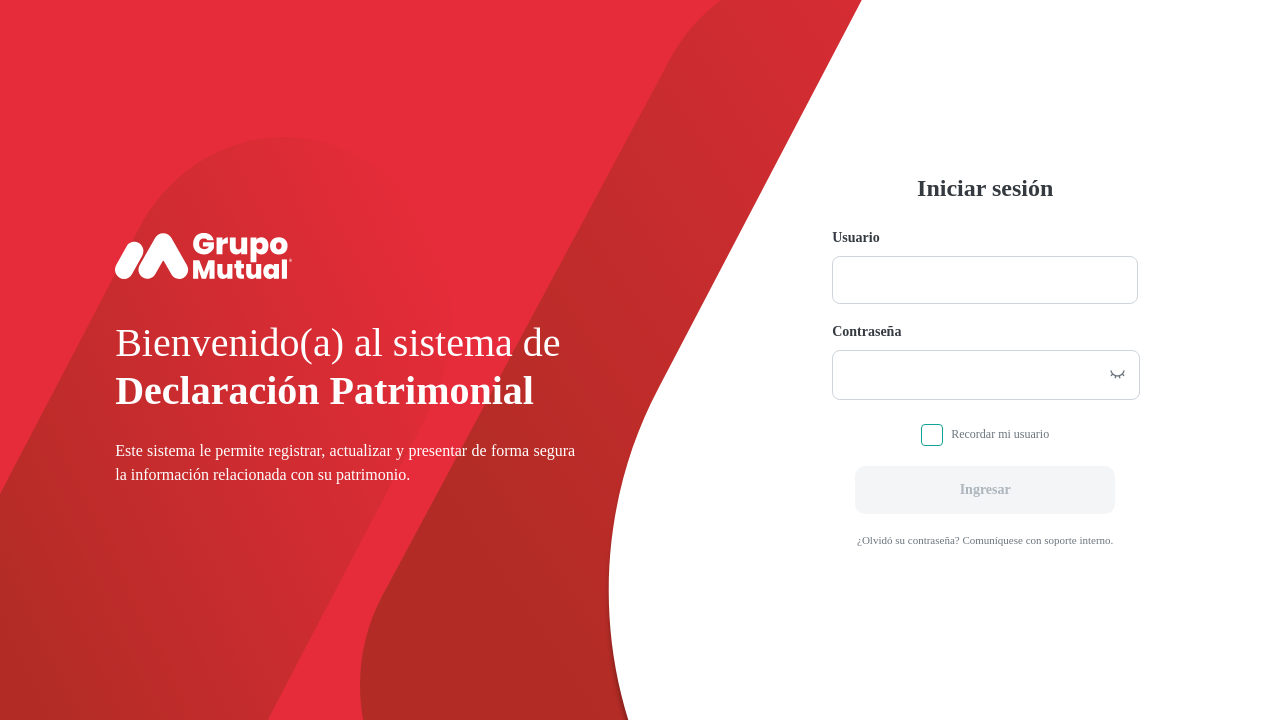
Login › rejects short usernames and clears the error at five characters
Type "abcd" into the field labelled "Usuario" at (985, 280), box [832,256,1138,304]
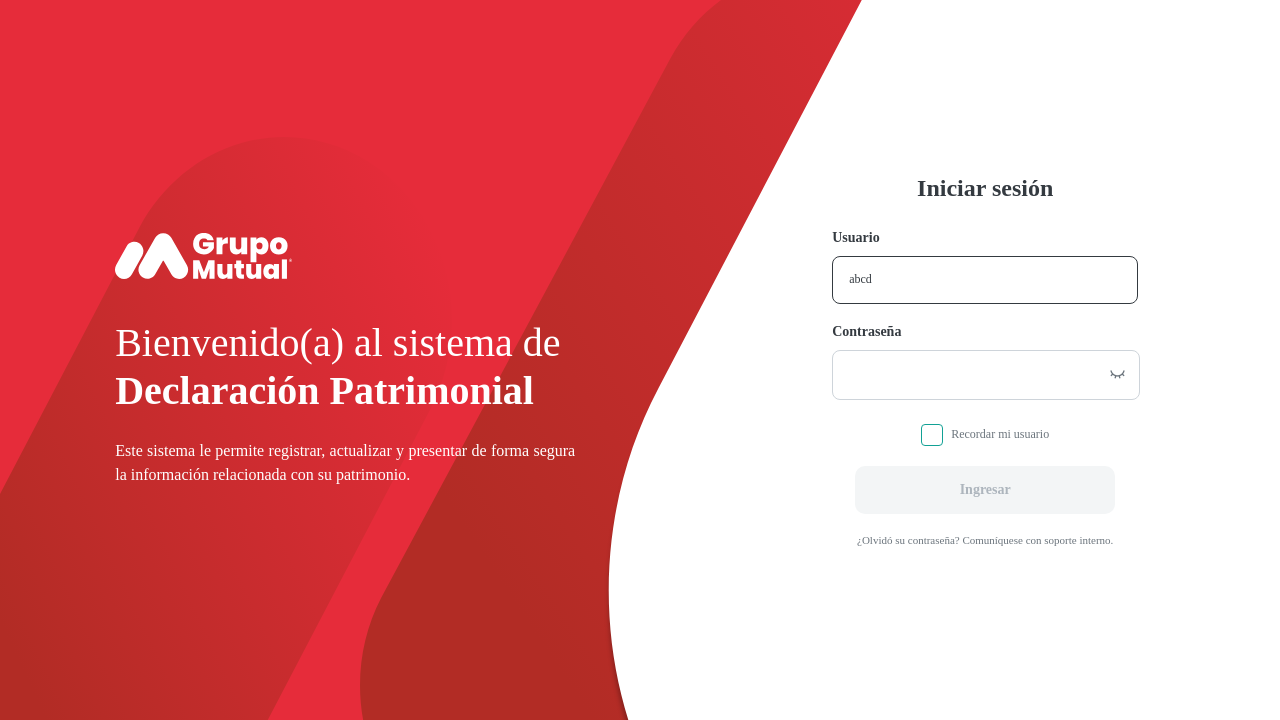
Type "x" into the password field labelled "Contraseña" at (965, 374), box [833,350,1096,398]
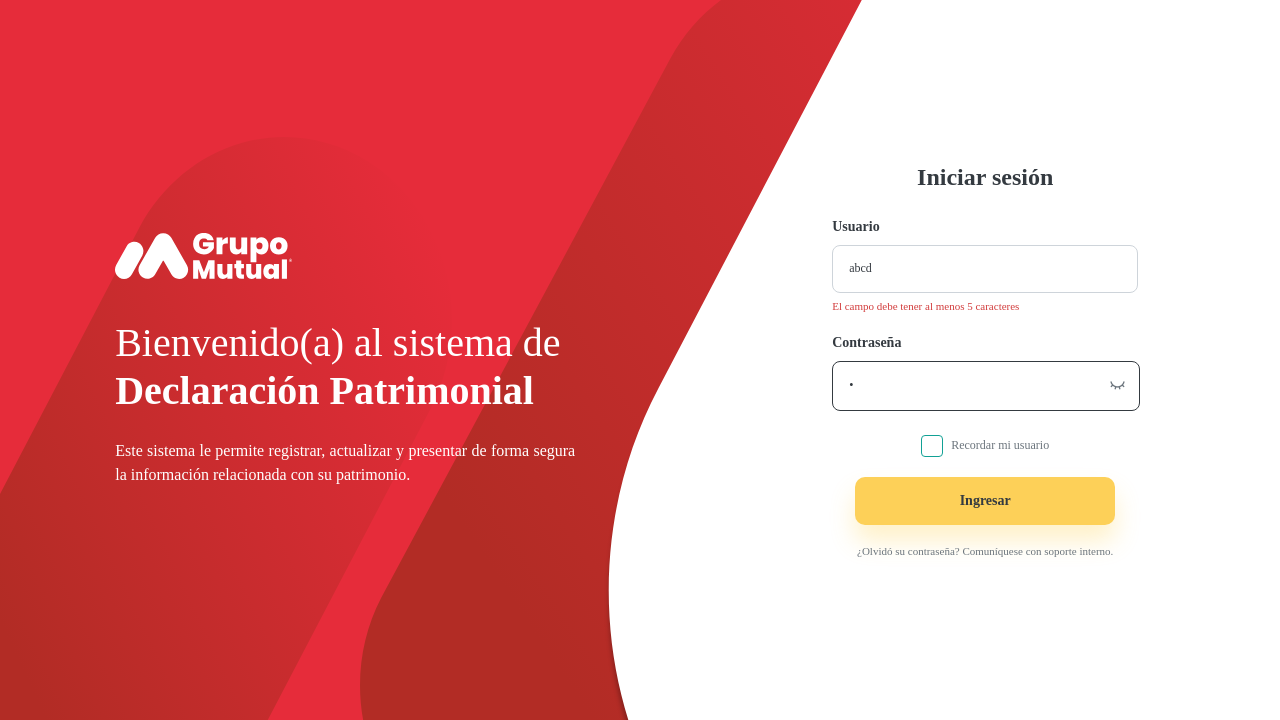
Click the button "Ingresar" at (985, 500), box [855,476,1115,524]
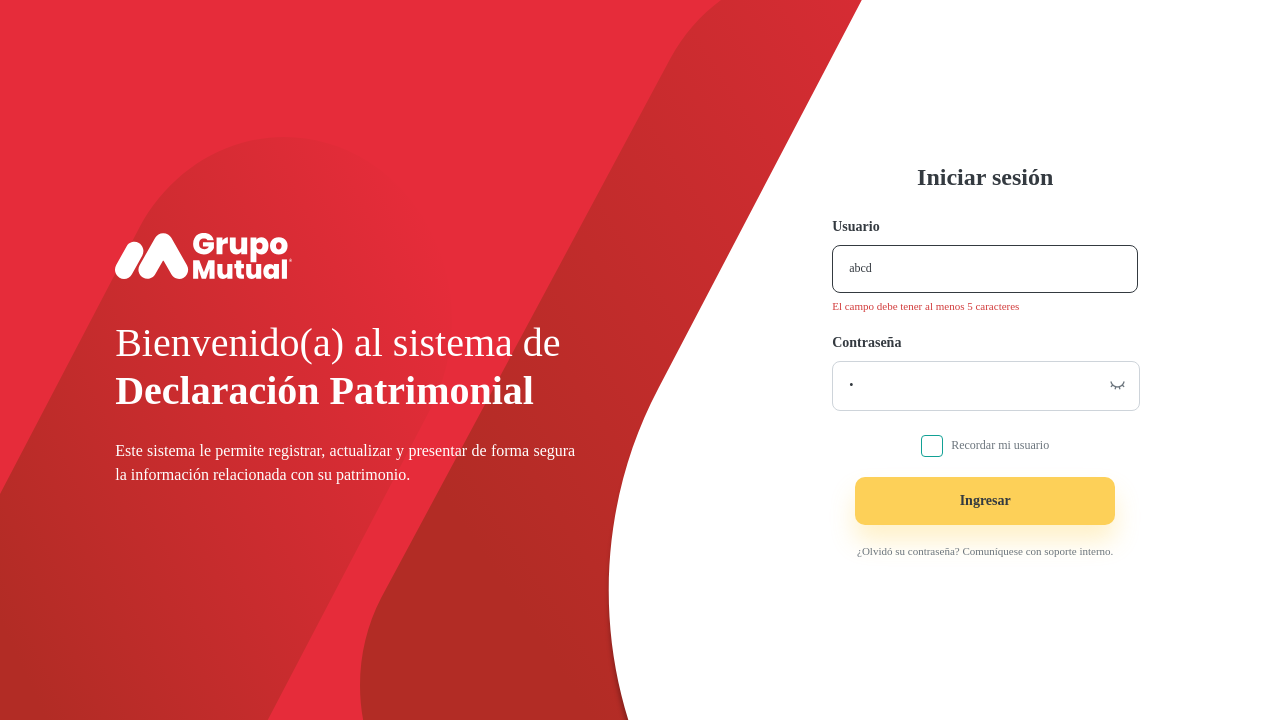
Check: the text "El campo debe tener al menos 5 caracteres" is shown, box [832,296,1019,314]
Type "e" into the field labelled "Usuario" at (985, 268), box [832,244,1138,292]
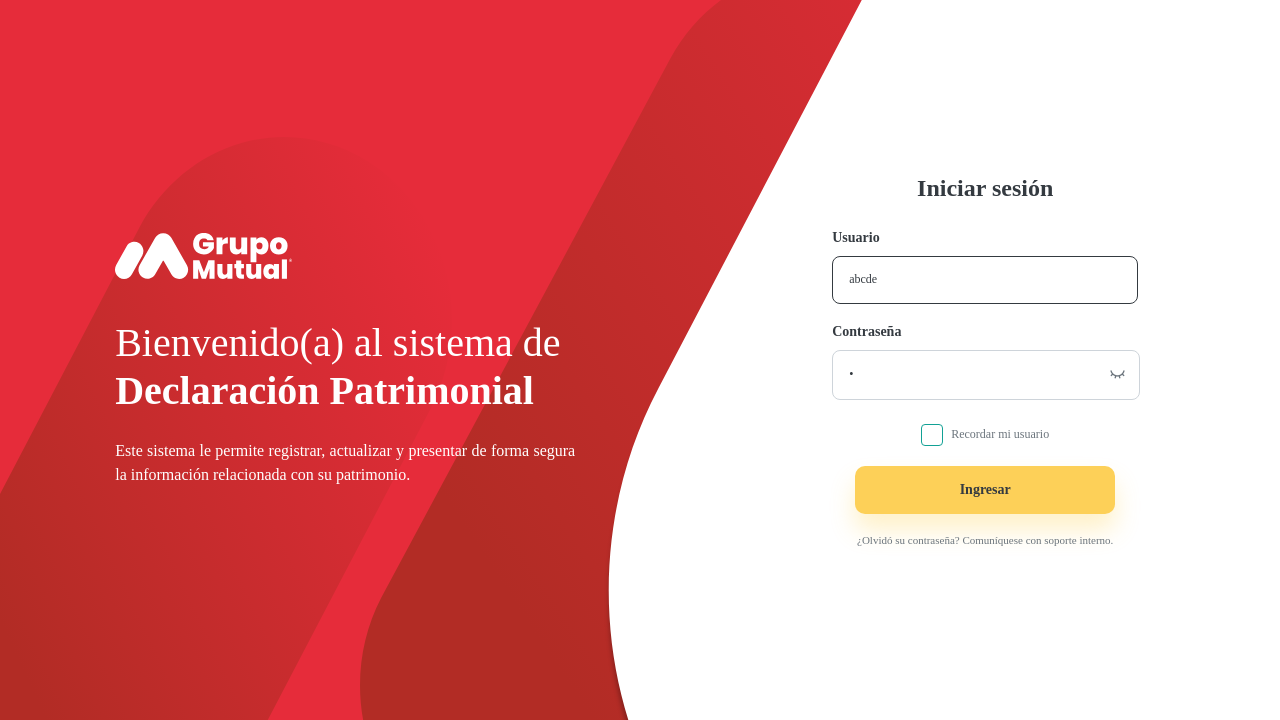
Check: the text "El campo debe tener al menos 5 caracteres" is gone
